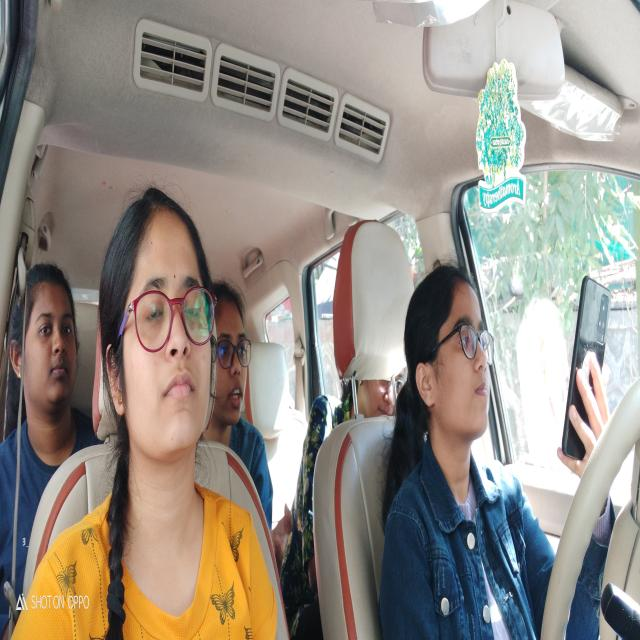mobile: (559, 259, 614, 463)
person: (99, 180, 215, 473), (404, 263, 494, 463), (9, 258, 79, 442), (212, 275, 253, 431), (356, 382, 395, 419)
